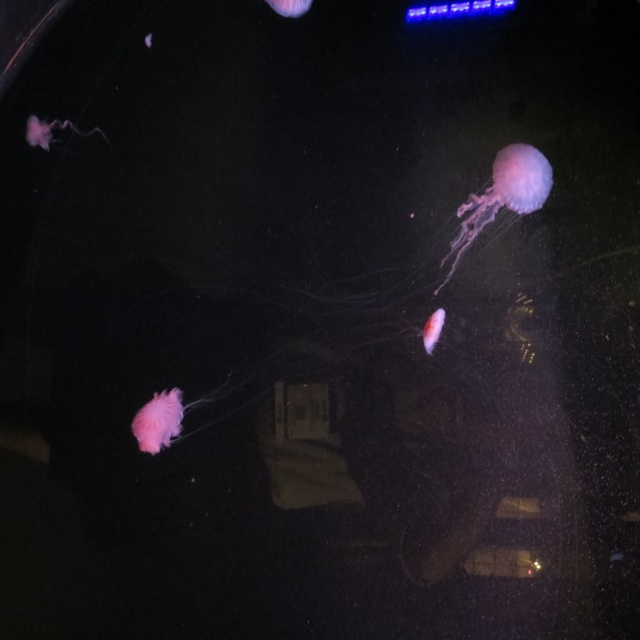Jellyfish: (270, 135, 554, 340), (130, 387, 217, 452), (24, 117, 96, 154), (402, 304, 450, 354), (265, 0, 310, 18)
